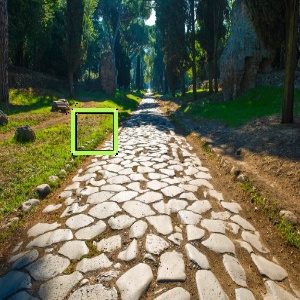square: (69, 106, 120, 157)
